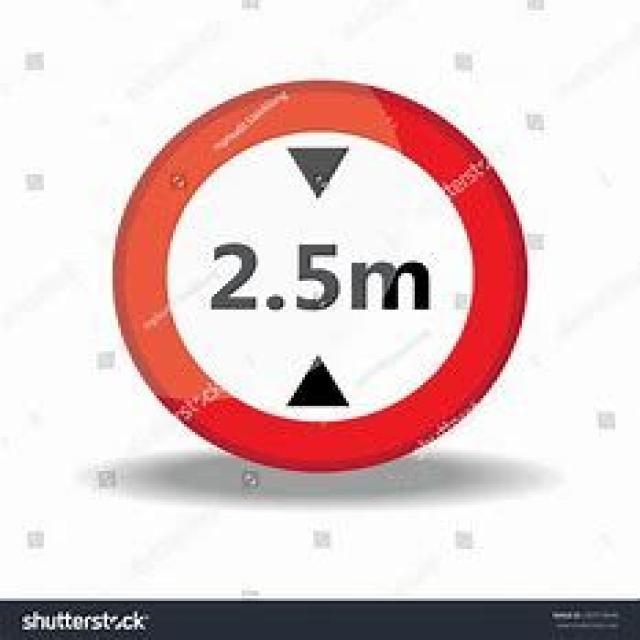height limit: (112, 78, 523, 475)
